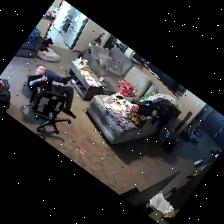person: (28, 65, 75, 118)
